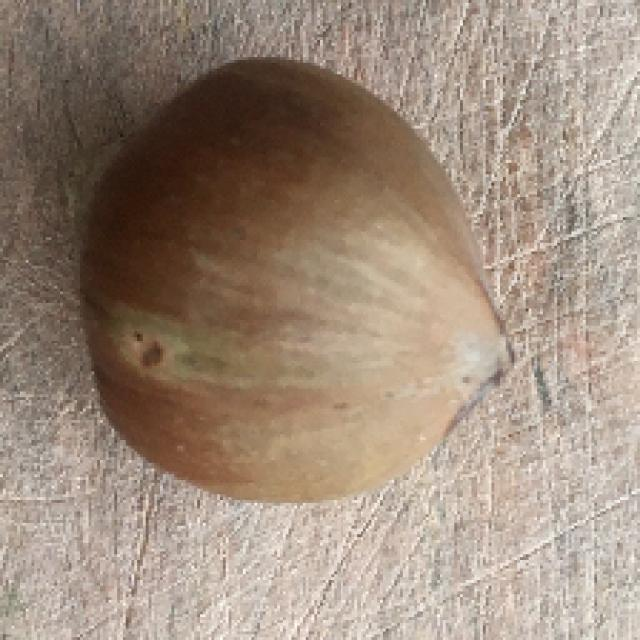qualityHazelnut: (79, 53, 509, 508)
